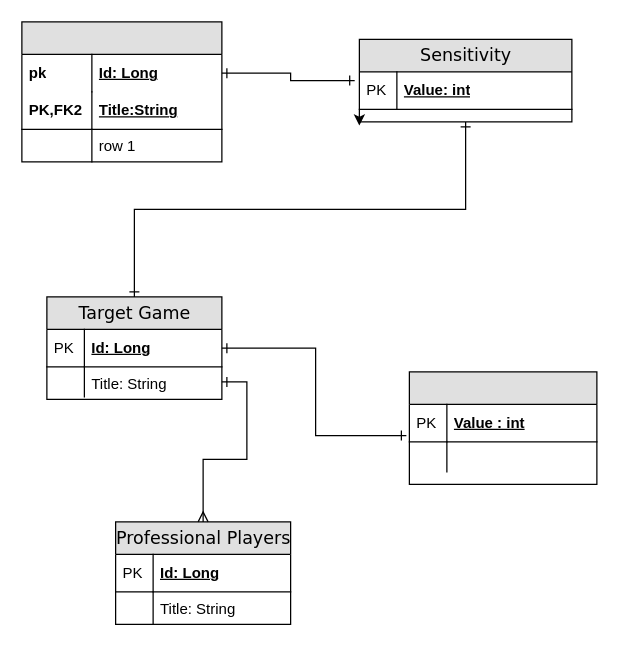
Some shapes in this 619 by 650 pixel diagram are drawn without their labels. Here are the shapes that lost their labels. From the top down, the box of each, then its label:
(21, 21, 222, 162): Game
(408, 371, 597, 484): New Sensitivity
